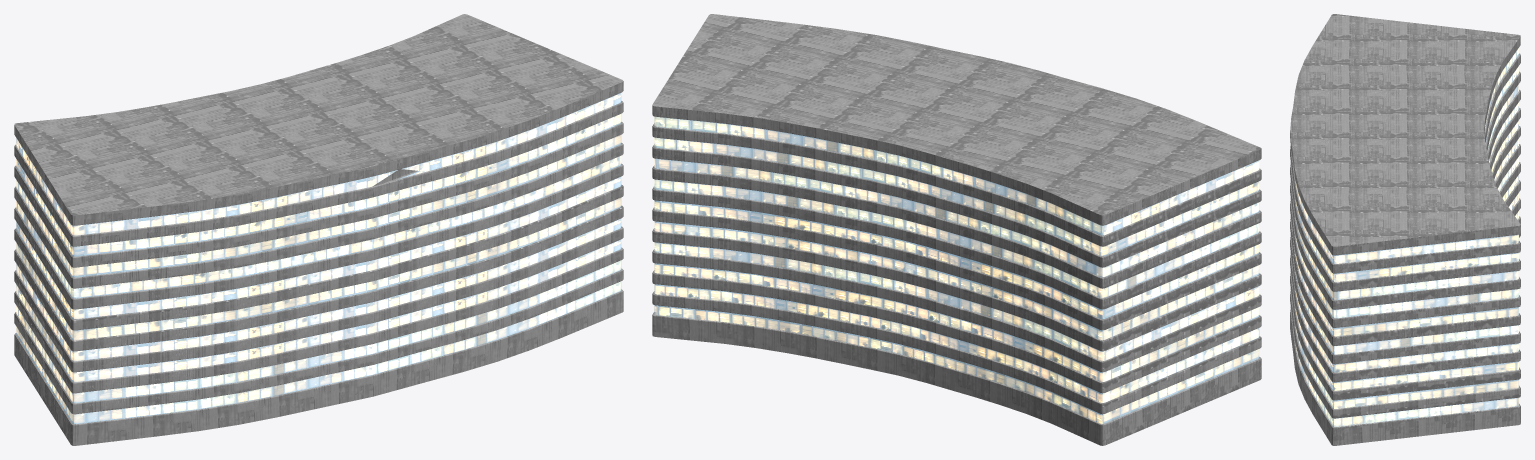
The model's file is SM_Building.fbx.
3 views of the same model, side by side, from view 1: azimuth 30°, elevation 25°; view 2: azimuth 150°, elevation 25°; view 3: azimuth 270°, elevation 25° (orthographic). The views are drawn at different scales.
Parts seen in each view (by area): view 1: SM_Building_LOD0; view 2: SM_Building_LOD0; view 3: SM_Building_LOD0.
Part boxes in pixels (x1,y1,x2,y2): SM_Building_LOD0: (14, 14, 623, 445); SM_Building_LOD0: (652, 14, 1261, 445); SM_Building_LOD0: (1290, 14, 1520, 445).
Bounding box in the file's own units: 3808 × 1595 × 1520.
